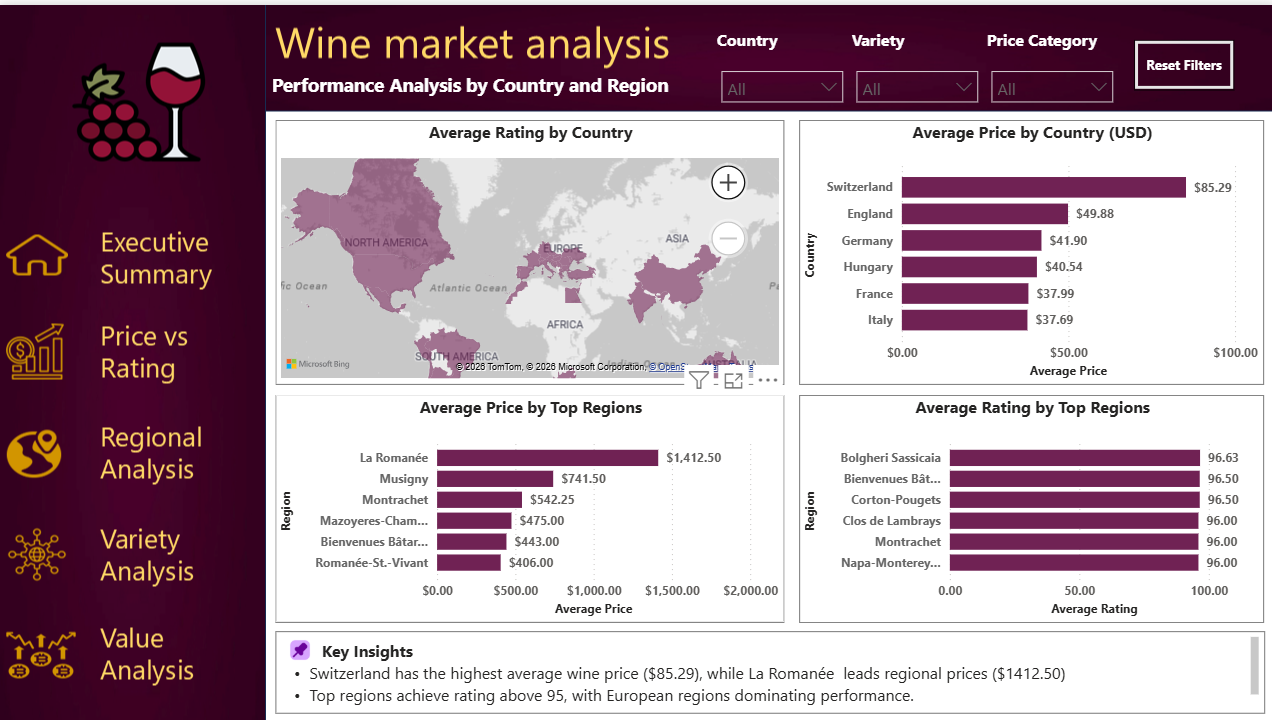

Layout of this report page (visuals, bound fields, positions):
{"tool":"powerbi","page":{"name":"Regional Analysis","canvas":[1280,720],"ordinal":2},"visuals":[{"type":"actionButton","title":"Reset Filters","box":[1136.7,34.8,100.2,50.1],"z":0},{"type":"slicer","title":"Country","fields":{"Values":["wine_data wine_insight.country"]},"box":[719,24.1,135.1,77.2],"z":1000},{"type":"slicer","title":"Variety","fields":{"Values":["wine_data wine_insight.variety"]},"box":[854.2,24.1,135.1,77.2],"z":2000},{"type":"slicer","title":"Price Category","fields":{"Values":["wine_data wine_insight.price_category"]},"box":[989.3,24.1,135.1,77.2],"z":3000},{"type":"filledMap","title":"Average Rating by Country ","fields":{"Category":["wine_data wine_insight.country"]},"box":[277.2,115.3,509.1,264.8],"z":4000},{"type":"clusteredBarChart","title":"Average  Price by Country (USD)","fields":{"Category":["wine_data wine_insight.country"],"Y":["Avg(wine_data wine_insight.price)"]},"box":[801.4,115.3,465.2,264.8],"z":5000},{"type":"clusteredBarChart","title":"Average Rating by Top Regions","fields":{"Category":["wine_data wine_insight.region_1"],"Y":["Avg(wine_data wine_insight.points)"]},"box":[801.4,389.7,465.2,227.8],"z":6000},{"type":"clusteredBarChart","title":"Average  Price by Top Regions","fields":{"Y":["Avg(wine_data wine_insight.price)"],"Category":["wine_data wine_insight.region_1"]},"box":[277.2,389.7,509.1,227.8],"z":7000},{"type":"textbox","box":[269,62.7,411.4,38.6],"z":8000},{"type":"textbox","box":[277.5,626.1,989.3,82],"z":9000},{"type":"image","box":[290.8,626.1,21.7,37.4],"z":10000},{"type":"actionButton","box":[0,308.9,268.5,80.7],"z":10001},{"type":"actionButton","box":[0,403.5,268.5,80.7],"z":10002},{"type":"actionButton","box":[0,512,268.5,80.7],"z":10003},{"type":"actionButton","box":[0,610.8,268.5,80.7],"z":10004},{"type":"actionButton","box":[0,214.3,268.5,80.7],"z":10005}]}

Visuals, with their boxes in screenshot pixels (x1, y1, x2, y2), scaled from the page's 1280x720 canvas onto the 1272x720 screenshot:
"Reset Filters" actionButton: bbox(1130, 35, 1229, 85)
"Country" slicer: bbox(715, 24, 849, 101)
"Variety" slicer: bbox(849, 24, 983, 101)
"Price Category" slicer: bbox(983, 24, 1117, 101)
"Average Rating by Country " filledMap: bbox(275, 115, 781, 380)
"Average  Price by Country (USD)" clusteredBarChart: bbox(796, 115, 1259, 380)
"Average Rating by Top Regions" clusteredBarChart: bbox(796, 390, 1259, 618)
"Average  Price by Top Regions" clusteredBarChart: bbox(275, 390, 781, 618)
textbox: bbox(267, 63, 676, 101)
textbox: bbox(276, 626, 1259, 708)
image: bbox(289, 626, 311, 664)
actionButton: bbox(0, 309, 267, 390)
actionButton: bbox(0, 404, 267, 484)
actionButton: bbox(0, 512, 267, 593)
actionButton: bbox(0, 611, 267, 692)
actionButton: bbox(0, 214, 267, 295)
